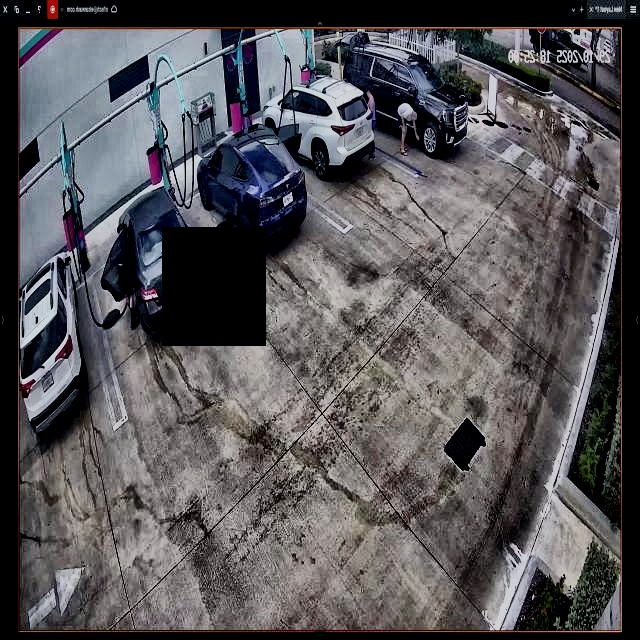Car: (100, 184, 201, 332), (197, 123, 305, 247), (262, 81, 374, 175)
